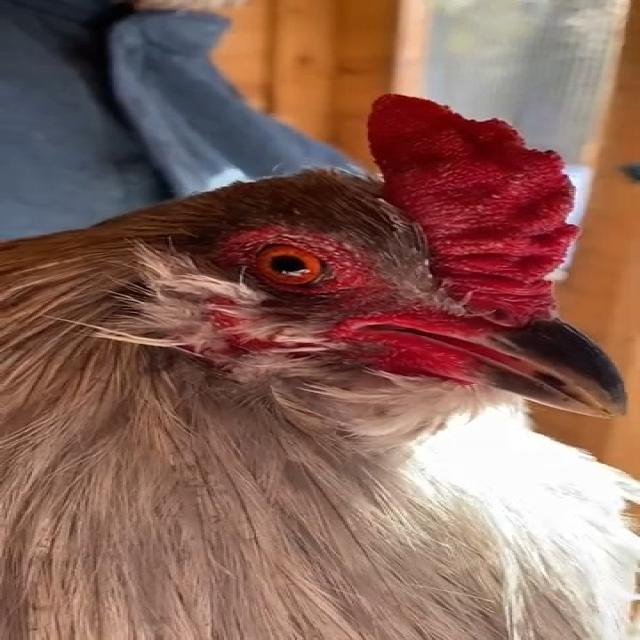Breathing: (0, 90, 636, 639)
